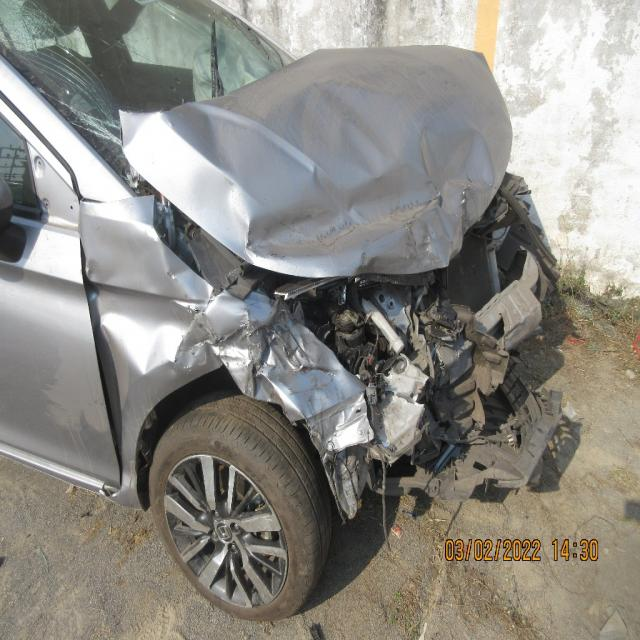damage: (166, 64, 497, 273), (290, 268, 462, 523), (81, 213, 202, 391), (204, 271, 314, 399), (52, 95, 133, 147), (0, 0, 62, 67)
